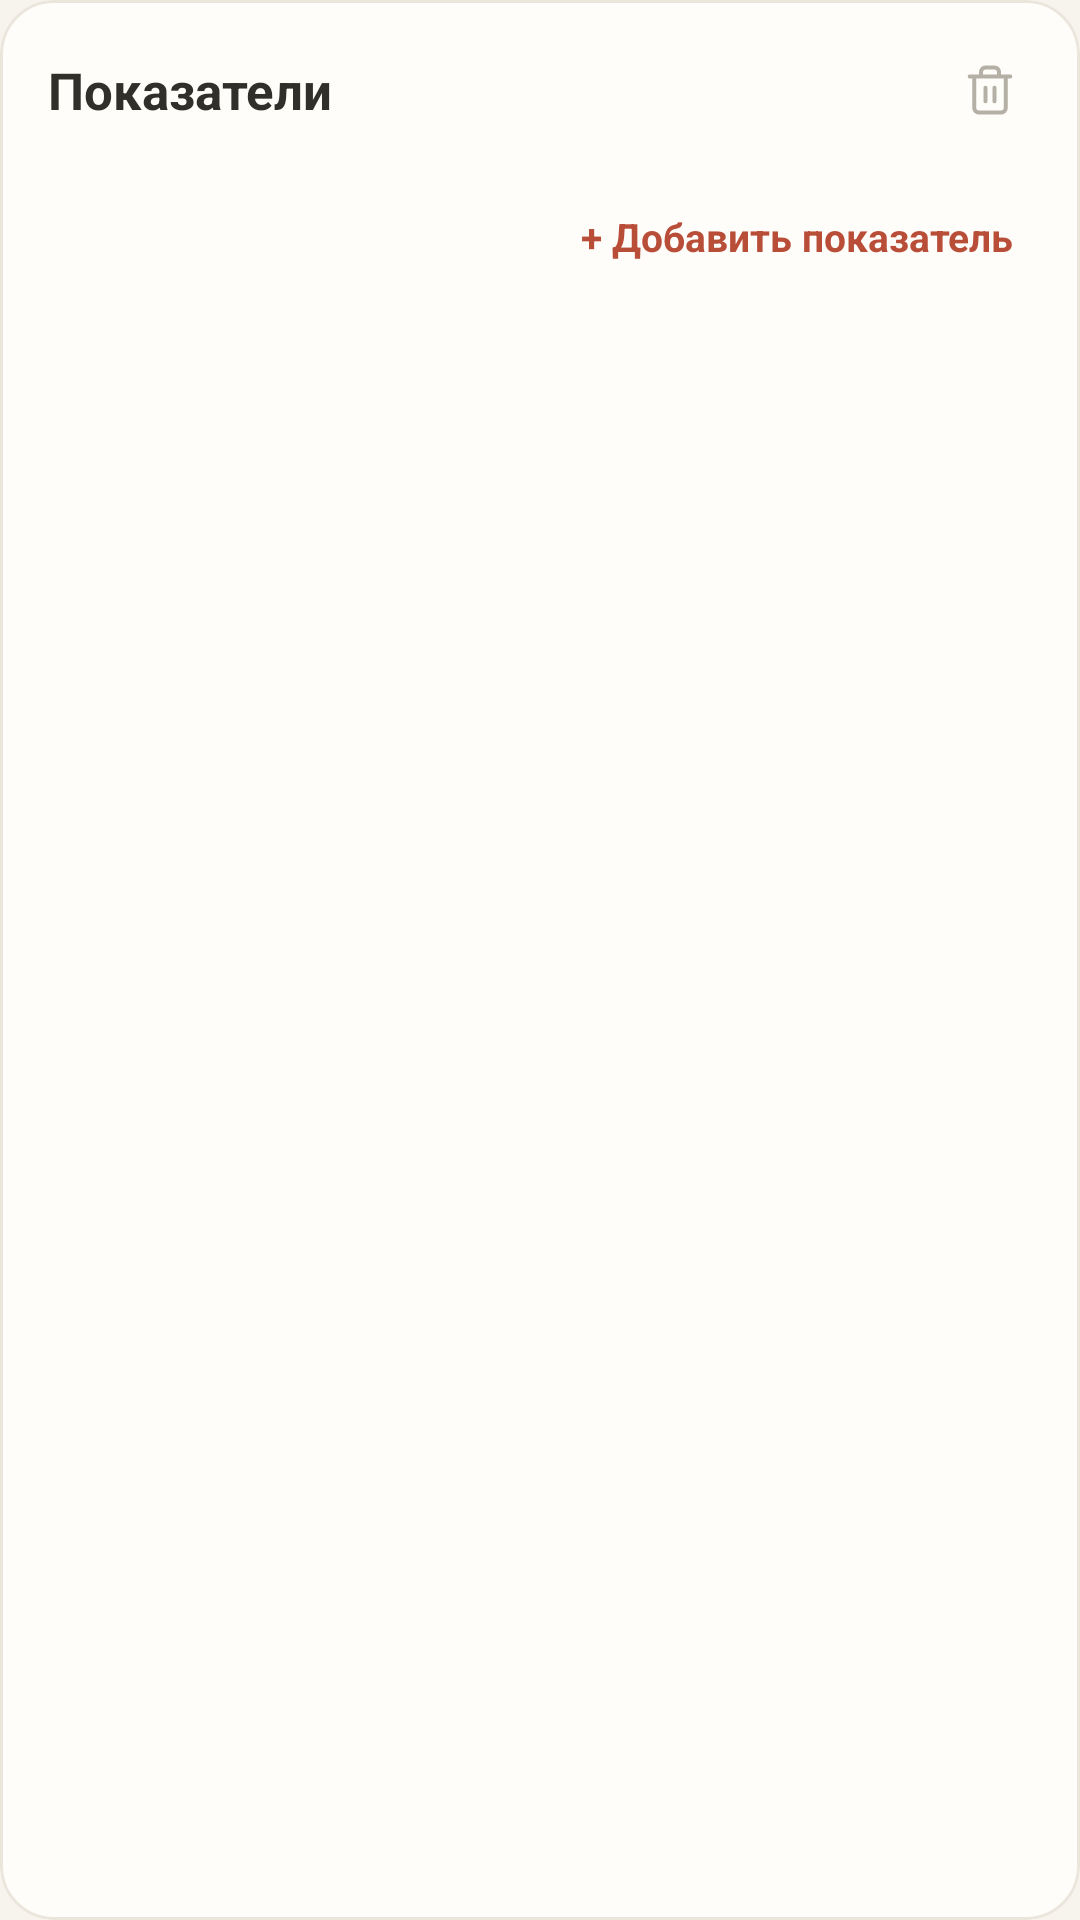

Named icons in this screenshot (1080w x 1920h) and their centers, (x=x, y=y):
Удалить блок: (x=990, y=90)
